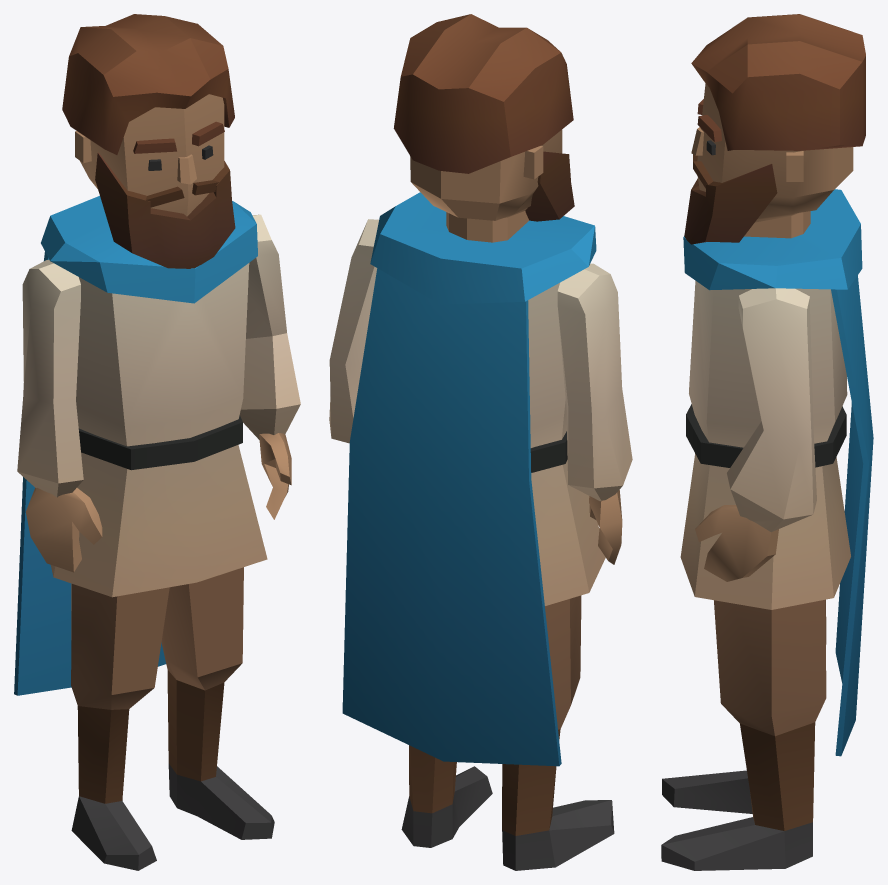
Rendered from Duke_2.fbx.
The picture shows the model from 3 angles, left to right: view 1: azimuth 30°, elevation 25°; view 2: azimuth 150°, elevation 25°; view 3: azimuth 270°, elevation 25°; orthographic projection. The views are drawn at different scales.
Parts seen in each view (by area): view 1: Duke_2; view 2: Duke_2; view 3: Duke_2.
Part boxes in pixels (x1,y1,x2,y2): Duke_2: (14,14,300,870); Duke_2: (329,14,632,870); Duke_2: (661,14,873,870).
Size of the model in its own units: 44.46 by 120 by 28.69.
